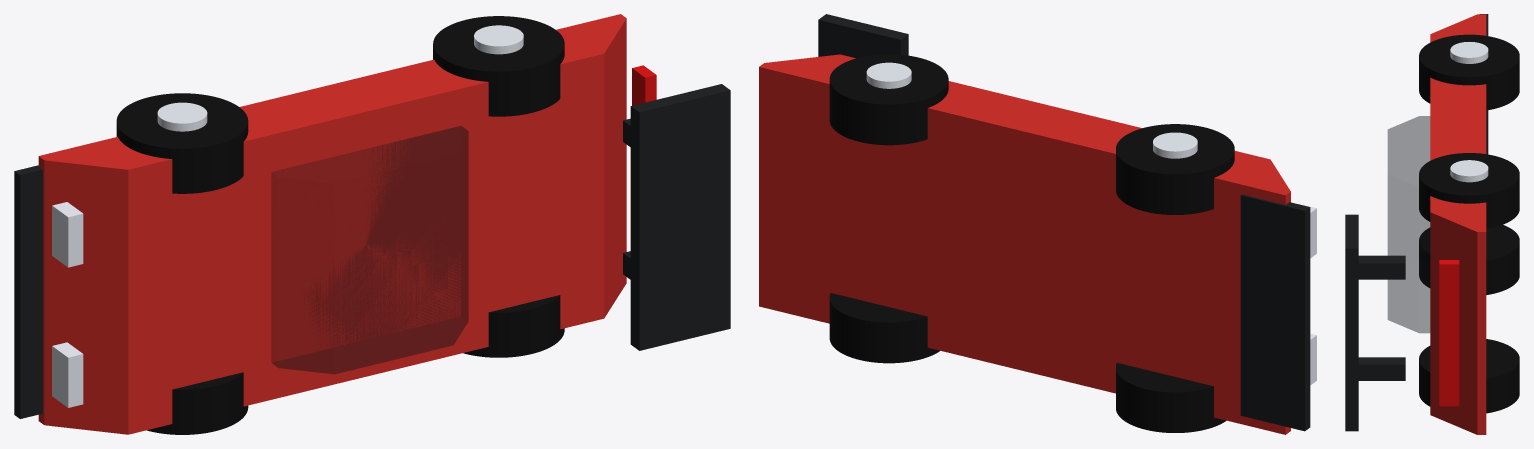
The model's file is Race1_GT.obj.
3 views of the same model, side by side, from view 1: azimuth 30°, elevation 25°; view 2: azimuth 150°, elevation 25°; view 3: azimuth 270°, elevation 25° (orthographic). The views are drawn at different scales.
Parts seen in each view (by area): view 1: Body, Canopy, Wing, WheelRR, WheelFR, Splitter, WheelRL, WheelFL, HLr, HLl, HubFR, HubRR (+1 smaller); view 2: Body, Splitter, WheelRR, WheelFR, WheelRL, WheelFL, Wing, HubRR, HubFR; view 3: Body, Canopy, WheelFR, WheelRR, TL, Wing, WheelRL, WheelFL, WingPR, WingPL, HubRR, HubFR (+1 smaller).
Boxes of the visible parts, x1,y1,x2,y2 form: Body: (38, 14, 626, 434); Canopy: (271, 126, 468, 373); Wing: (630, 84, 730, 350); WheelRR: (433, 16, 564, 116); WheelFR: (116, 93, 248, 193); Splitter: (14, 165, 42, 418); WheelRL: (463, 295, 564, 357); WheelFL: (147, 372, 248, 434); HLr: (52, 202, 83, 267); HLl: (52, 342, 83, 407); HubFR: (157, 102, 207, 131); HubRR: (474, 25, 523, 54); Body: (759, 54, 1290, 434); Splitter: (1240, 194, 1310, 431); WheelRR: (829, 54, 948, 145); WheelFR: (1116, 124, 1234, 214); WheelRL: (829, 293, 939, 363); WheelFL: (1116, 362, 1226, 432); Wing: (818, 14, 908, 58); HubRR: (866, 62, 911, 88); HubFR: (1153, 132, 1197, 158); Body: (1430, 14, 1486, 434); Canopy: (1388, 116, 1429, 332); WheelFR: (1419, 34, 1519, 110); WheelRR: (1419, 153, 1519, 228); TL: (1439, 260, 1459, 406); Wing: (1345, 214, 1358, 431); WheelRL: (1419, 339, 1519, 413); WheelFL: (1419, 224, 1519, 294); WingPR: (1358, 255, 1405, 279); WingPL: (1358, 357, 1405, 380); HubRR: (1450, 160, 1488, 182); HubFR: (1450, 42, 1488, 63).
Size of the model in its own units: 4.92 by 2.26 by 1.56.
